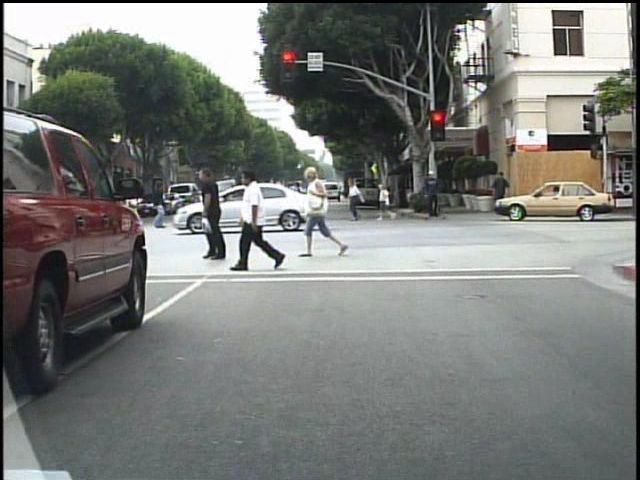person: (227, 168, 294, 279), (303, 166, 353, 259), (196, 164, 240, 266), (419, 163, 440, 222), (346, 175, 368, 225), (304, 172, 325, 224), (287, 178, 308, 224), (118, 179, 136, 227), (152, 179, 168, 232), (4, 191, 22, 237), (492, 168, 509, 215), (8, 198, 24, 237)
